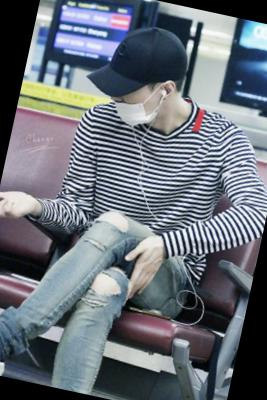mask_weared_incorrect: (106, 77, 162, 134)
